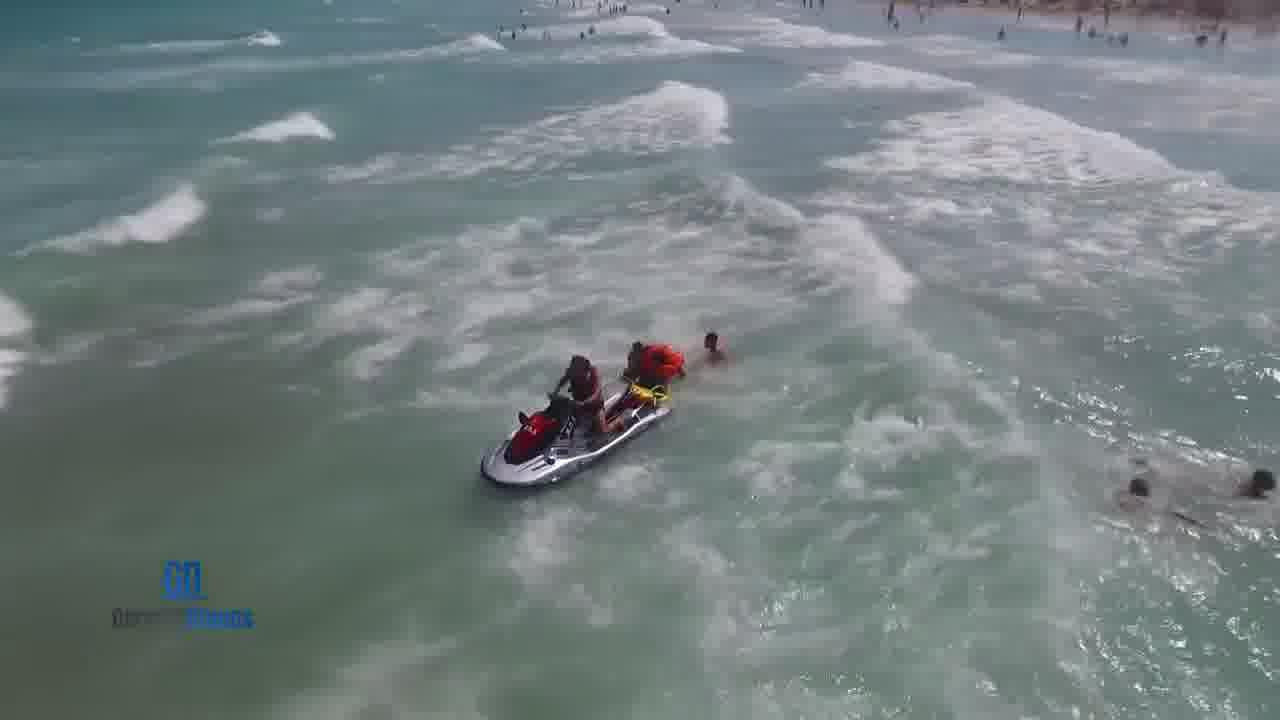swimmer: (1105, 462, 1200, 528), (1219, 448, 1280, 507), (687, 316, 743, 365)
